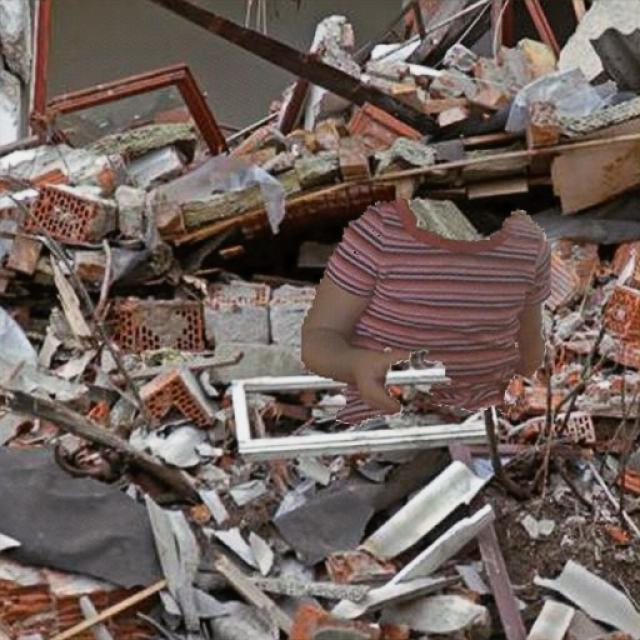Person in Rubble: (301, 197, 550, 425)
